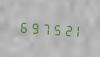five: (48, 19, 57, 37)
nine: (27, 18, 36, 36)
one: (68, 21, 77, 38)
seven: (38, 19, 47, 36)
six: (17, 17, 26, 35)
two: (58, 20, 67, 38)
